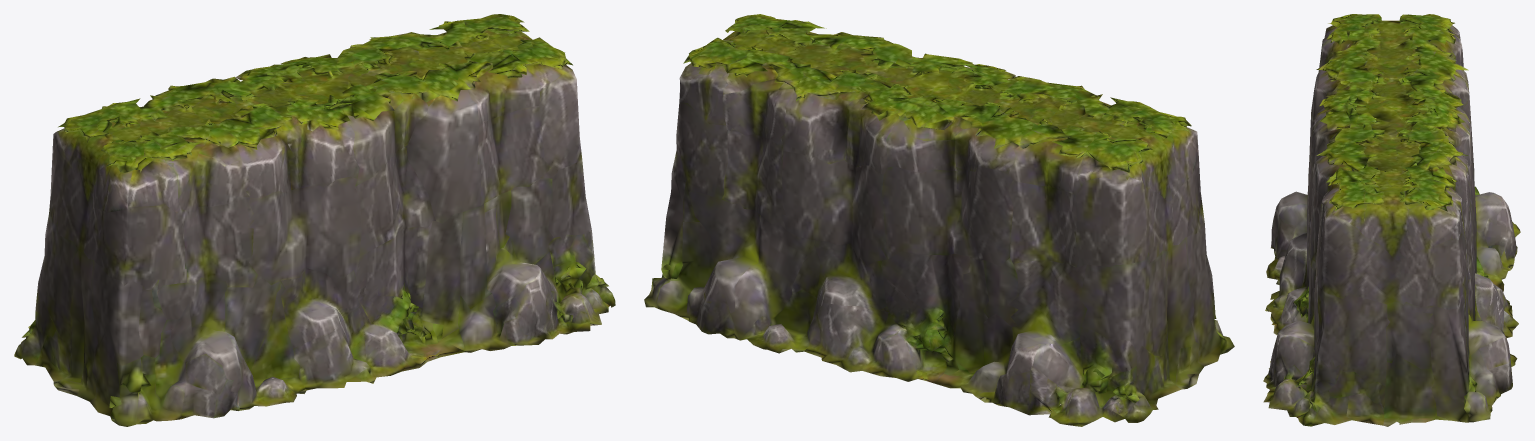
The model's file is plateau_a.glb.
3 views of the same model, side by side, from view 1: azimuth 30°, elevation 25°; view 2: azimuth 150°, elevation 25°; view 3: azimuth 270°, elevation 25° (orthographic). The views are drawn at different scales.
Bounding box in the file's own units: 1.89 × 0.8672 × 0.9298.
Materials: 1 (1 with a texture image).
